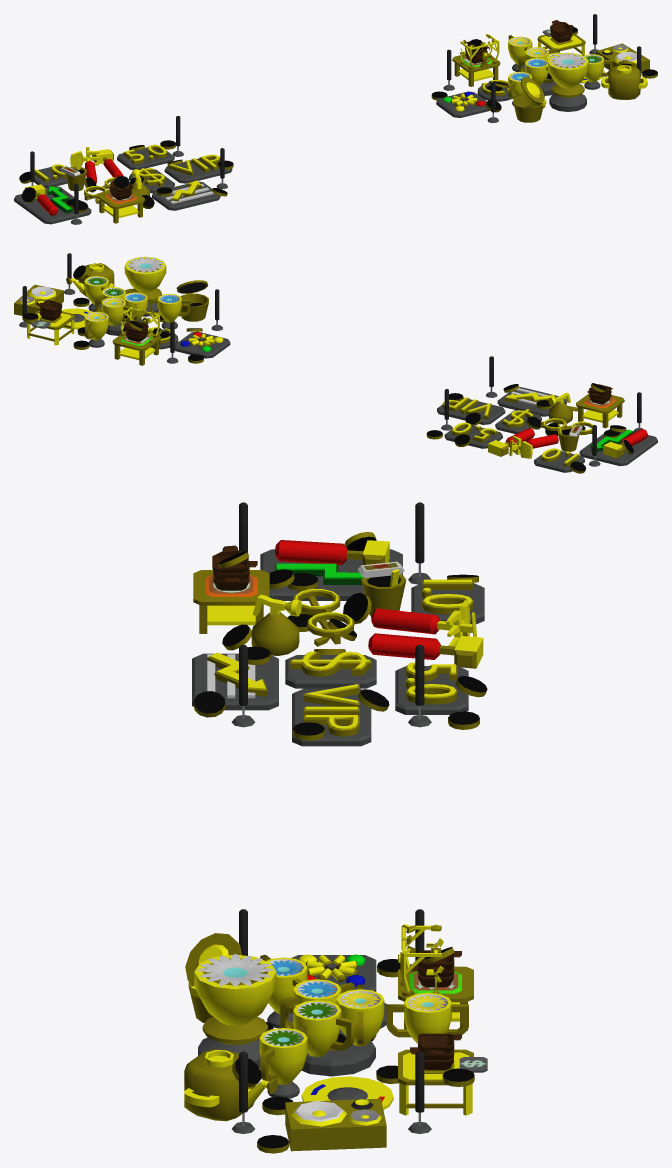
The model's file is Achievements.fbx.
3 renders of one model, top to bottom at view 1: azimuth 30°, elevation 25°; view 2: azimuth 150°, elevation 25°; view 3: azimuth 270°, elevation 25°, orthographic. The views are drawn at different scales.
Visible parts, largest first — view 1: GreatCollector, AllTheBest, PlantGrowingPlant, TopPlayerFlowerShop, Sprinter, WarehouseLogistics, IKnowALotAboutBusiness, TakingCareOfPlants, HardworkingBreeder, TheBestFlowerShop, AspiringCollector, DecentCitizen (+12 smaller); view 2: AllTheBest, PlantGrowingPlant, TopPlayerFlowerShop, AspiringCollector, GreatCollector, WarehouseLogistics, ToCapacity, IKnowALotAboutBusiness, HardworkingBreeder, Sprinter, TheBestFlowerShop, DecentCitizen (+13 smaller); view 3: AspiringCollector, GreatCollector, AllTheBest, LetThereBeSound, TopPlayerFlowerShop, IKnowALotAboutBusiness, Sprinter, WarehouseLogistics, TakingCareOfPlants, ToCapacity, PlantGrowingPlant, TheBestFlowerShop (+13 smaller).
Part boxes in pixels (x1=…): GreatCollector: x1=547, y1=52, x2=588, y2=111; AllTheBest: x1=14, y1=184, x2=91, y2=224; PlantGrowingPlant: x1=452, y1=34, x2=500, y2=86; TopPlayerFlowerShop: x1=30, y1=14, x2=642, y2=224; Sprinter: x1=152, y1=180, x2=227, y2=210; WarehouseLogistics: x1=97, y1=176, x2=145, y2=223; IKnowALotAboutBusiness: x1=164, y1=154, x2=233, y2=183; TakingCareOfPlants: x1=601, y1=60, x2=647, y2=99; HardworkingBreeder: x1=431, y1=91, x2=501, y2=117; TheBestFlowerShop: x1=117, y1=140, x2=176, y2=169; AspiringCollector: x1=518, y1=47, x2=562, y2=95; DecentCitizen: x1=513, y1=77, x2=546, y2=122; AllTheBest: x1=579, y1=425, x2=657, y2=466; PlantGrowingPlant: x1=112, y1=307, x2=161, y2=365; TopPlayerFlowerShop: x1=19, y1=253, x2=642, y2=466; AspiringCollector: x1=95, y1=287, x2=147, y2=335; GreatCollector: x1=124, y1=256, x2=166, y2=316; WarehouseLogistics: x1=576, y1=383, x2=624, y2=428; ToCapacity: x1=22, y1=300, x2=74, y2=345; IKnowALotAboutBusiness: x1=437, y1=393, x2=505, y2=425; HardworkingBreeder: x1=174, y1=328, x2=230, y2=363; Sprinter: x1=497, y1=384, x2=566, y2=416; TheBestFlowerShop: x1=426, y1=422, x2=502, y2=448; DecentCitizen: x1=176, y1=280, x2=208, y2=321; AspiringCollector: x1=280, y1=979, x2=384, y2=1076; GreatCollector: x1=194, y1=954, x2=276, y2=1068; AllTheBest: x1=260, y1=532, x2=402, y2=600; LetThereBeSound: x1=257, y1=1098, x2=386, y2=1153; TopPlayerFlowerShop: x1=231, y1=502, x2=431, y2=1133; IKnowALotAboutBusiness: x1=292, y1=684, x2=389, y2=746; Sprinter: x1=192, y1=646, x2=278, y2=717; WarehouseLogistics: x1=193, y1=545, x2=269, y2=633; TakingCareOfPlants: x1=184, y1=1049, x2=278, y2=1121; ToCapacity: x1=398, y1=1033, x2=487, y2=1115; PlantGrowingPlant: x1=398, y1=924, x2=473, y2=1030; TheBestFlowerShop: x1=395, y1=662, x2=487, y2=729.
Bounding box in the file's own units: 1765 × 122 × 378.
